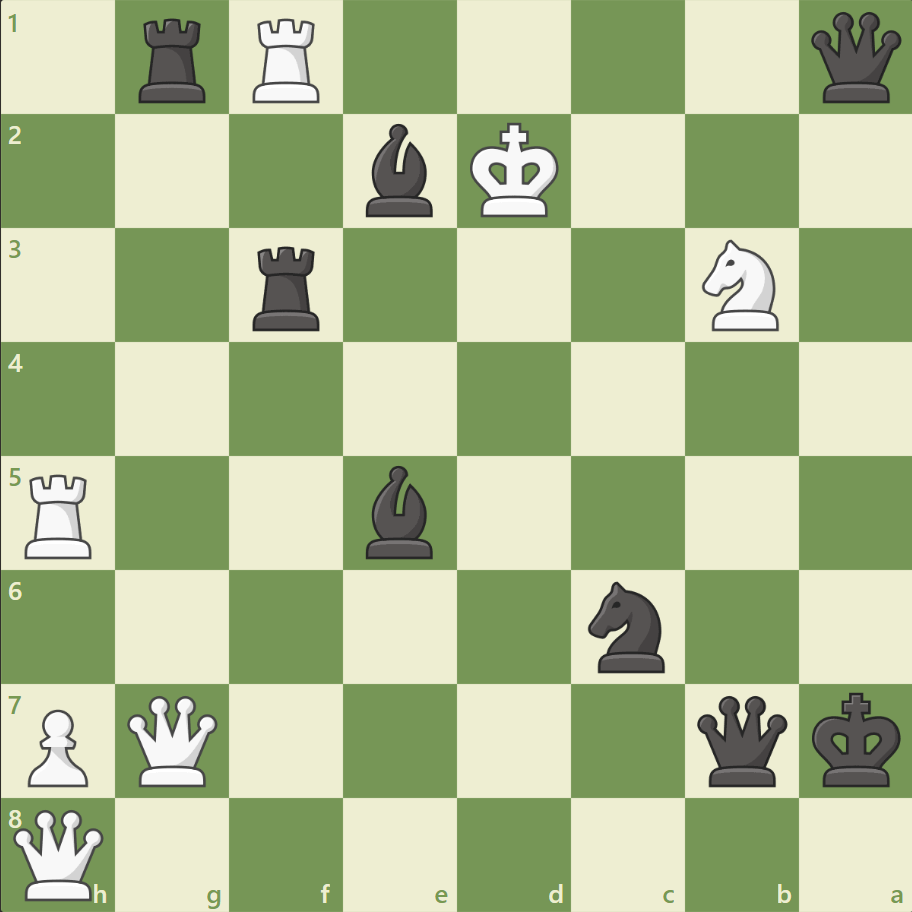K: (465, 117, 565, 225)
N: (692, 234, 789, 337)
P: (20, 700, 95, 791)
Q: (10, 804, 109, 903), (124, 690, 223, 789)
R: (19, 466, 102, 563), (246, 12, 329, 109)
b: (358, 460, 442, 563), (358, 120, 442, 222)
k: (806, 685, 906, 793)
n: (579, 575, 676, 677)
q: (691, 690, 790, 789), (805, 9, 904, 108)
r: (246, 239, 329, 336), (133, 12, 215, 109)
